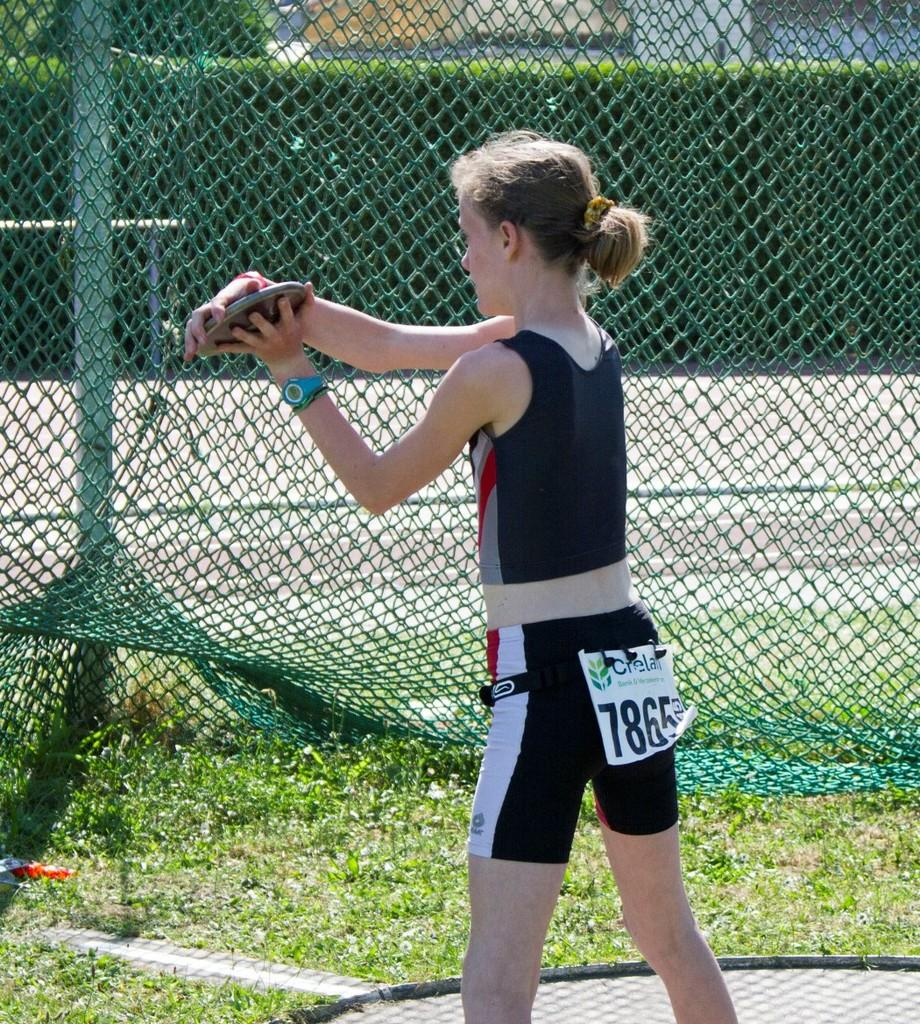no_helmet: (450, 127, 593, 213)
none: (450, 333, 622, 624)
